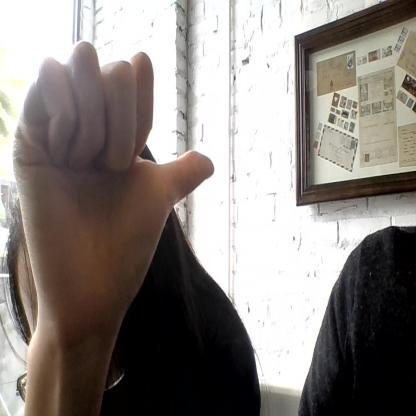left: (14, 40, 216, 310)
